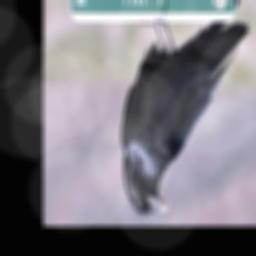Crow: (120, 0, 250, 218)
